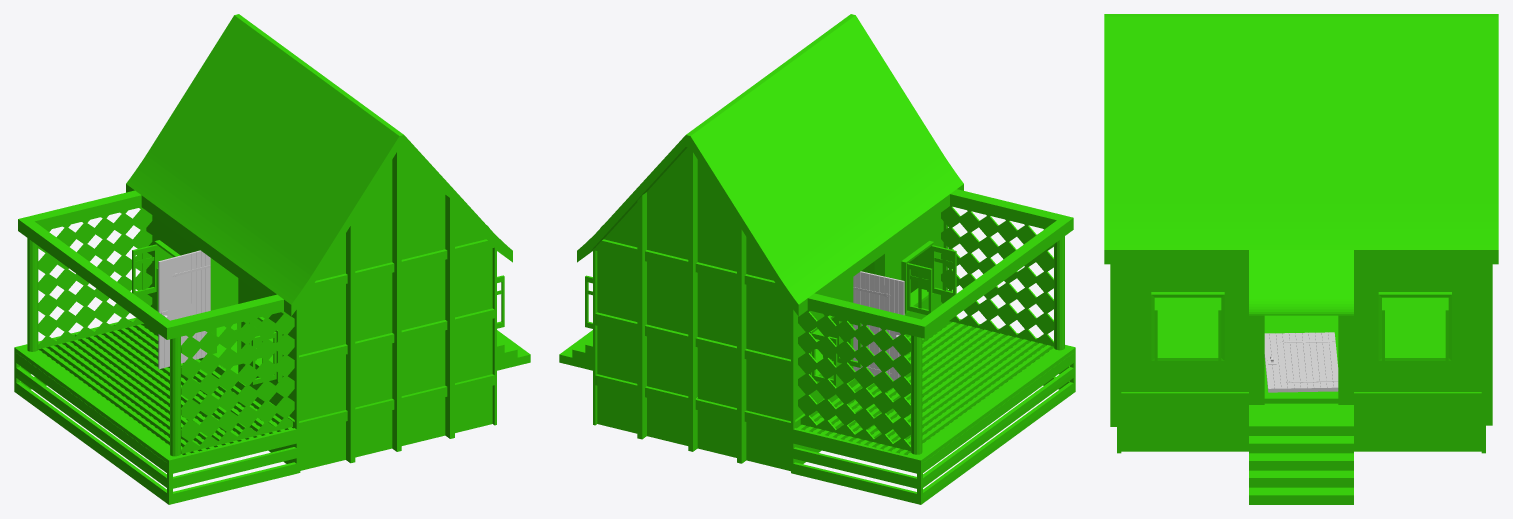
Rendered from House_with_terrace.fbx.
3 views of the same model, side by side, from view 1: azimuth 30°, elevation 25°; view 2: azimuth 150°, elevation 25°; view 3: azimuth 270°, elevation 25° (orthographic). The views are drawn at different scales.
Visible parts, largest first — view 1: Roof, terracewood, House, Decorations, Woods, Concrete, Doors, Windows, Stairs; view 2: Roof, terracewood, House, Decorations, Woods, Concrete, Windows, Doors, Stairs; view 3: Roof, House, Concrete, Woods, Stairs, Doors, Windows.
Boxes of the visible parts, box(x1,y1,x2,y2) form: Roof: box(126, 14, 512, 316); terracewood: box(14, 190, 296, 504); House: box(145, 135, 494, 425); Decorations: box(38, 207, 294, 453); Woods: box(14, 147, 496, 473); Concrete: box(268, 385, 492, 470); Doors: box(158, 250, 210, 369); Windows: box(132, 240, 504, 384); Stairs: box(497, 330, 530, 370); Roof: box(577, 14, 963, 316); terracewood: box(793, 189, 1075, 504); House: box(595, 135, 943, 423); Decorations: box(798, 206, 1053, 451); Woods: box(593, 147, 947, 474); Concrete: box(597, 385, 821, 471); Windows: box(585, 241, 956, 385); Doors: box(853, 271, 904, 380); Stairs: box(559, 330, 592, 370); Roof: box(1104, 14, 1498, 315); House: box(1121, 264, 1481, 393); Concrete: box(1121, 405, 1481, 451); Woods: box(1110, 264, 1492, 453); Stairs: box(1249, 403, 1353, 504); Doors: box(1264, 332, 1338, 392); Windows: box(1151, 292, 1451, 370).
Bounding box in the file's own units: 1915 × 1394 × 1314.
